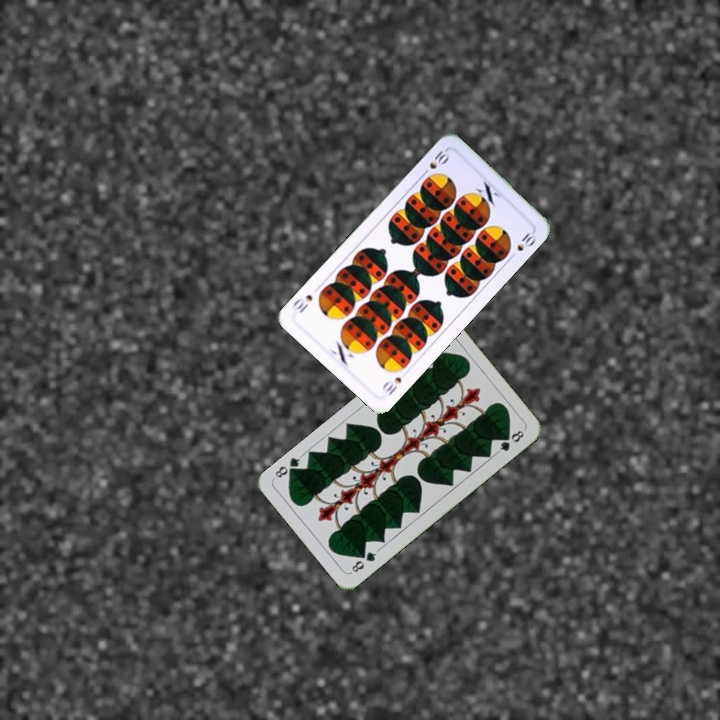G8: (346, 546, 381, 576)
S10: (418, 146, 452, 178), (378, 373, 404, 398)
